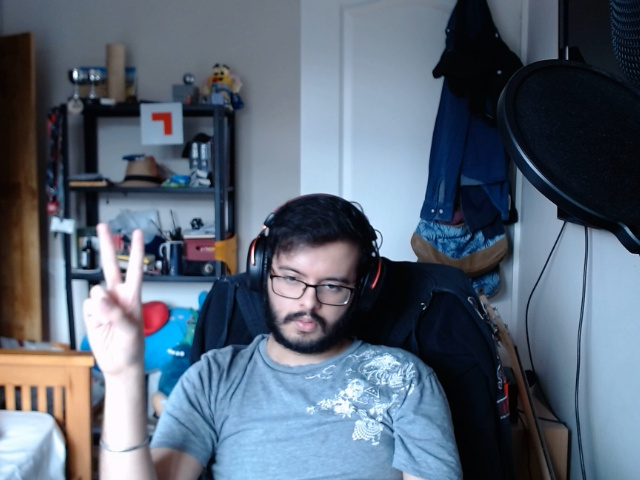Peace: (72, 213, 159, 387)
